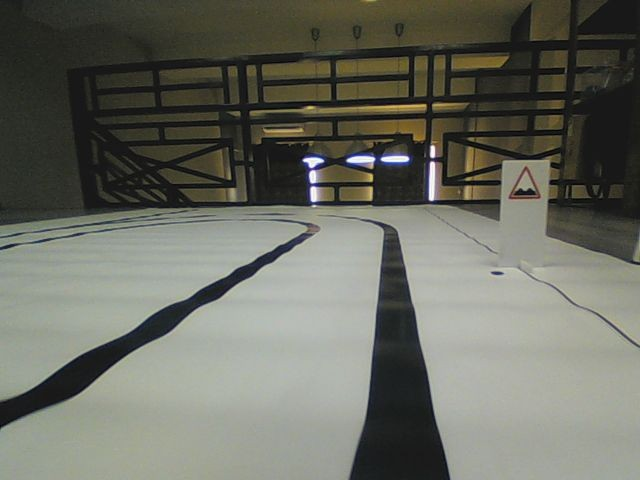Nerov: (507, 164, 541, 200)
